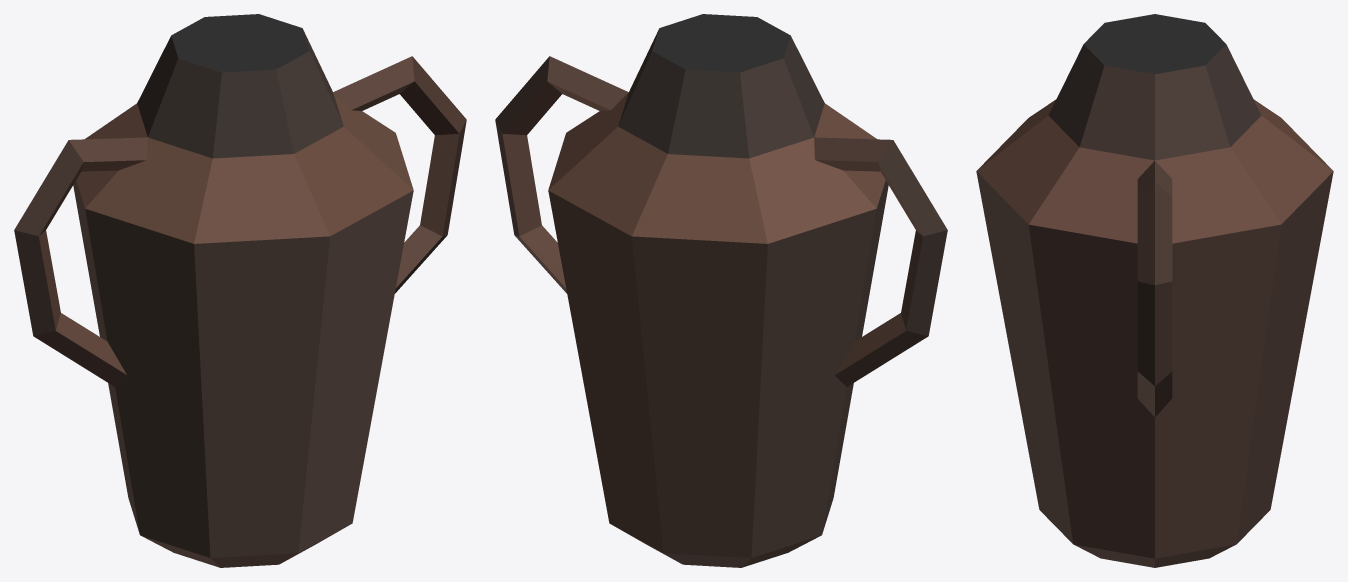
Rendered from Prop_VaseH.fbx.
3 views of the same model, side by side, from view 1: azimuth 30°, elevation 25°; view 2: azimuth 150°, elevation 25°; view 3: azimuth 270°, elevation 25° (orthographic).
Parts seen in each view (by area): view 1: Prop_VaseH; view 2: Prop_VaseH; view 3: Prop_VaseH.
Part boxes in pixels (box(x1,y1,x2,y2)): Prop_VaseH: box(14, 14, 466, 567); Prop_VaseH: box(495, 14, 947, 567); Prop_VaseH: box(976, 14, 1333, 567).
Size of the model in its own units: 86.64 by 90.21 by 59.47.
